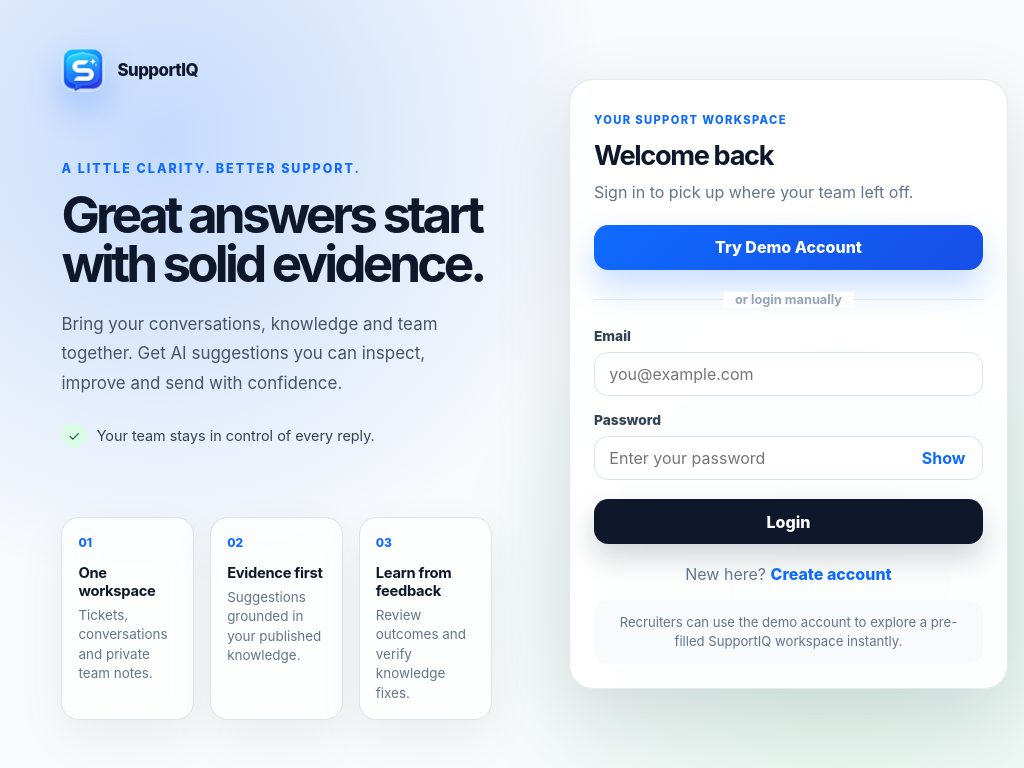
Scenario: demo login explains an outage and permits a successful retry
Click the button "Try Demo Account". click: (788, 248)
box: [594,225,983,270]
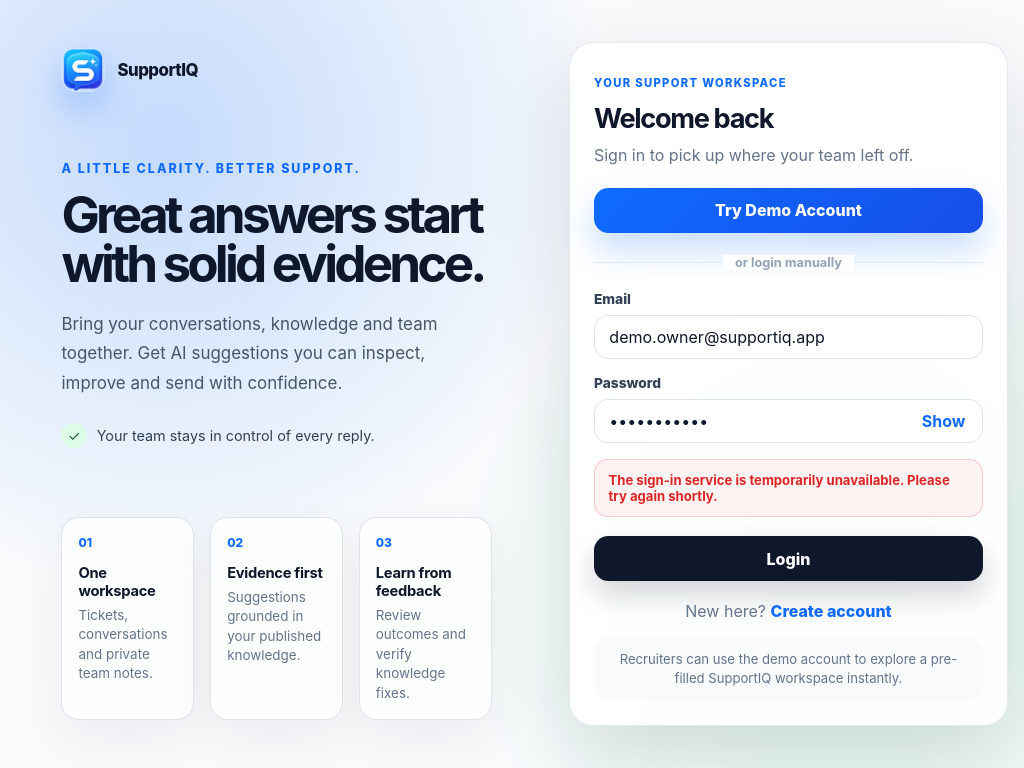
Now the message shows "temporarily unavailable", box [608,472,950,504]
Click the button "Try Demo Account". click: (788, 210)
box: [594,188,983,233]
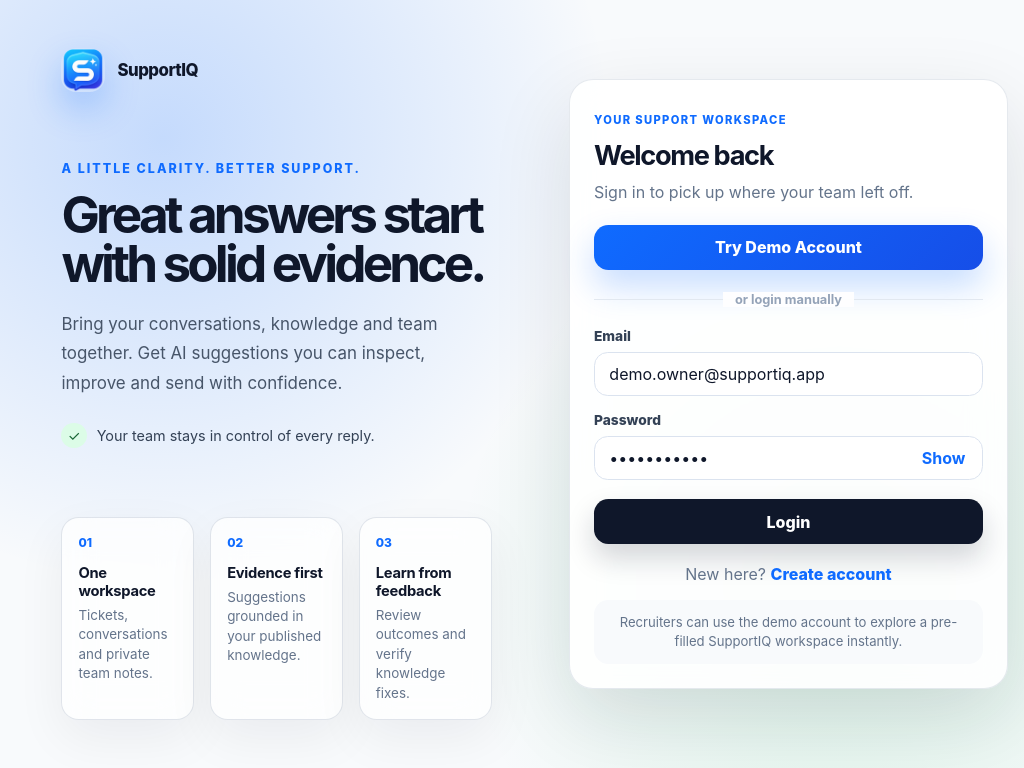
Now the message "The sign-in service is temporarily unavailable. Please try again shortly." is gone
